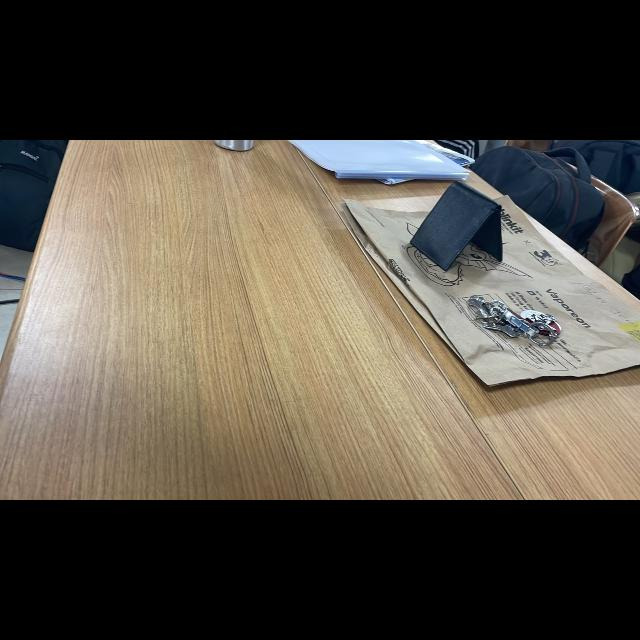keys: (464, 288, 574, 364)
wallet: (410, 170, 518, 272)
